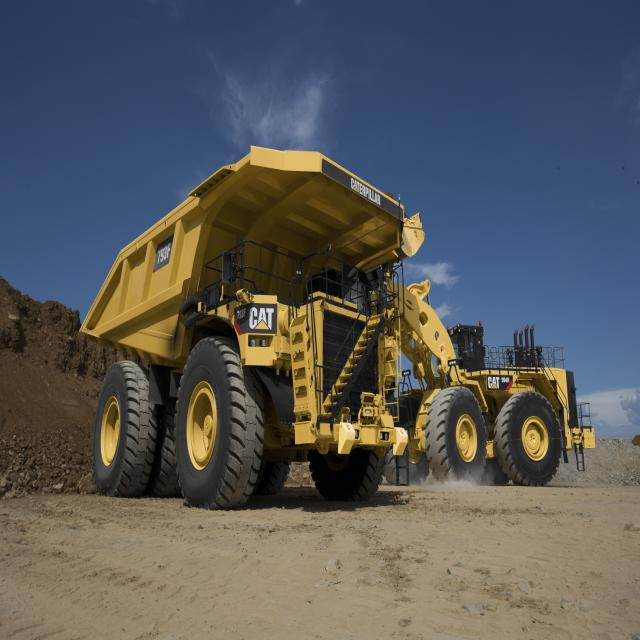buldozerpayloadergrader: (398, 251, 611, 507)
dump_truck: (80, 135, 407, 511)
